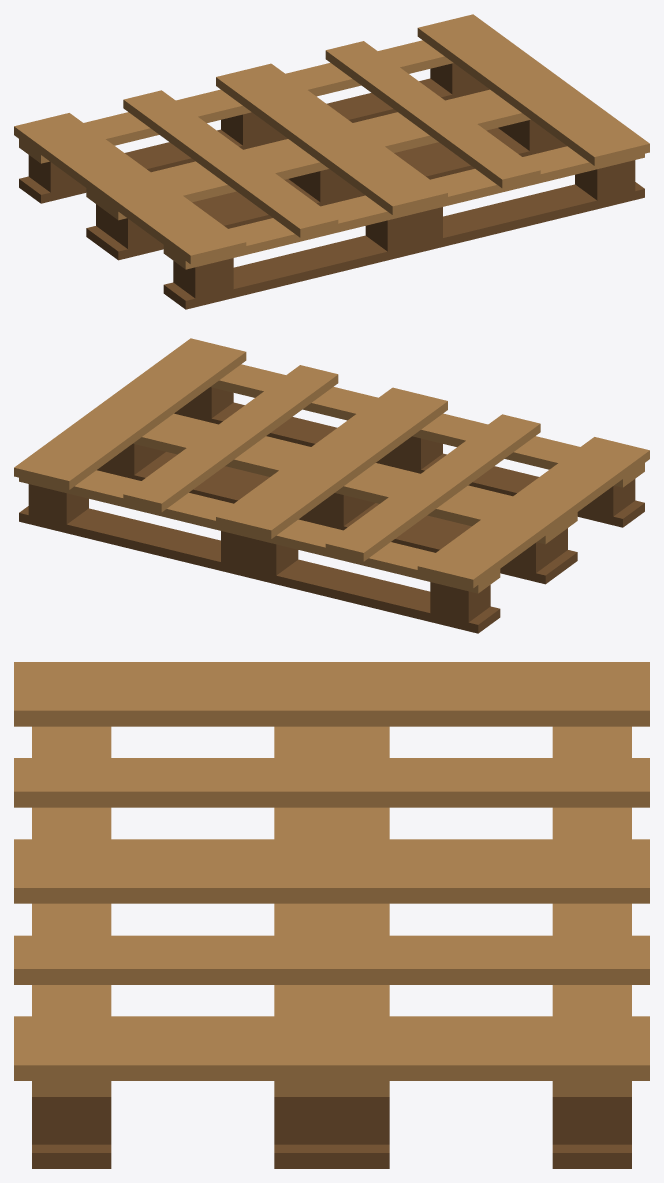
File: pallet.glb
3 views of the same model, one above another, from view 1: azimuth 30°, elevation 25°; view 2: azimuth 150°, elevation 25°; view 3: azimuth 270°, elevation 25° (orthographic). The views are drawn at different scales.
Parts seen in each view (by area): view 1: Pallet; view 2: Pallet; view 3: Pallet.
Part boxes in pixels (bbox=[...]): Pallet: bbox=[14, 14, 649, 309]; Pallet: bbox=[14, 338, 649, 633]; Pallet: bbox=[14, 662, 649, 1168].
Size of the model in its own units: 1.2 by 0.144 by 0.8.
